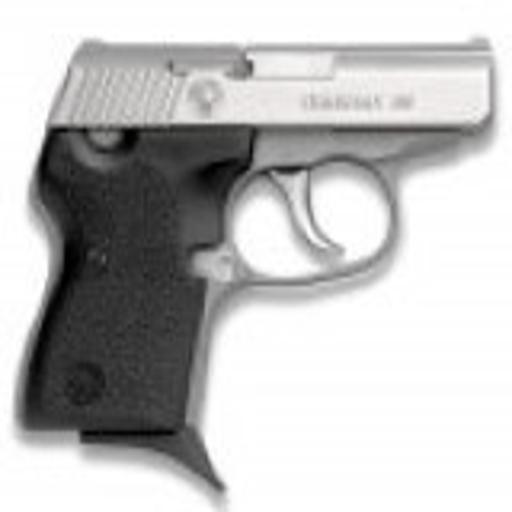Handgun: (18, 28, 498, 472)
